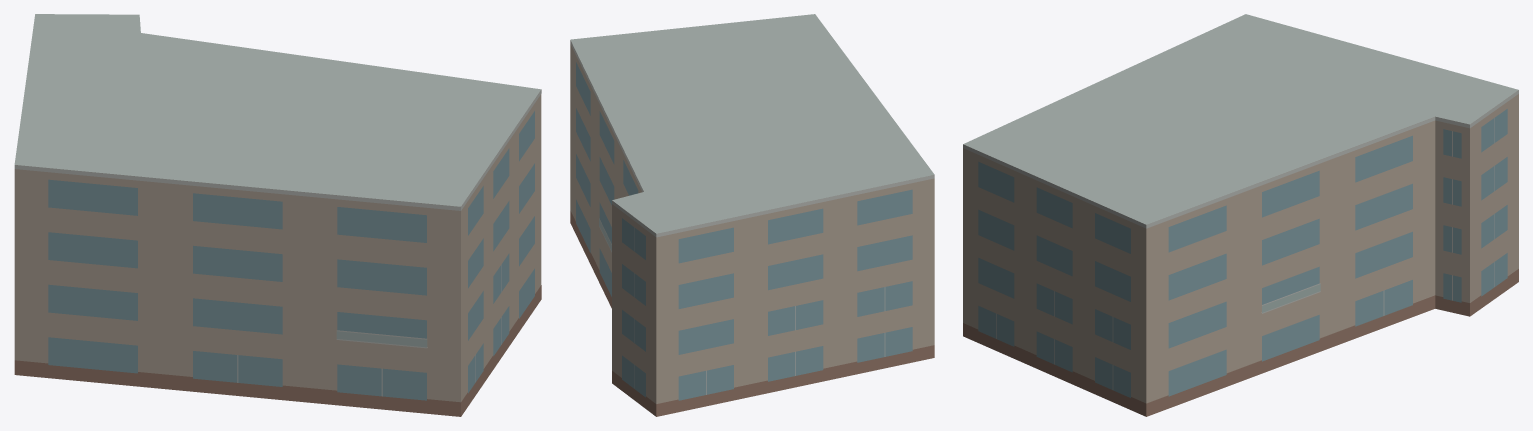
The model's file is residential-15d8ea90-956b-4e4b-9fa3-e651fe85015f.glb.
The picture shows the model from 3 angles, left to right: view 1: azimuth 30°, elevation 25°; view 2: azimuth 150°, elevation 25°; view 3: azimuth 270°, elevation 25°; orthographic projection. The views are drawn at different scales.
Visible parts, largest first — view 1: residential-15d8ea90-956b-4e4b-9fa3-e651fe85015f.tmp; view 2: residential-15d8ea90-956b-4e4b-9fa3-e651fe85015f.tmp; view 3: residential-15d8ea90-956b-4e4b-9fa3-e651fe85015f.tmp.
Part boxes in pixels (x1,y1,x2,y2): residential-15d8ea90-956b-4e4b-9fa3-e651fe85015f.tmp: [14, 14, 541, 416]; residential-15d8ea90-956b-4e4b-9fa3-e651fe85015f.tmp: [570, 14, 934, 416]; residential-15d8ea90-956b-4e4b-9fa3-e651fe85015f.tmp: [963, 14, 1518, 416].
Bounding box in the file's own units: 28.72 × 12.2 × 32.
